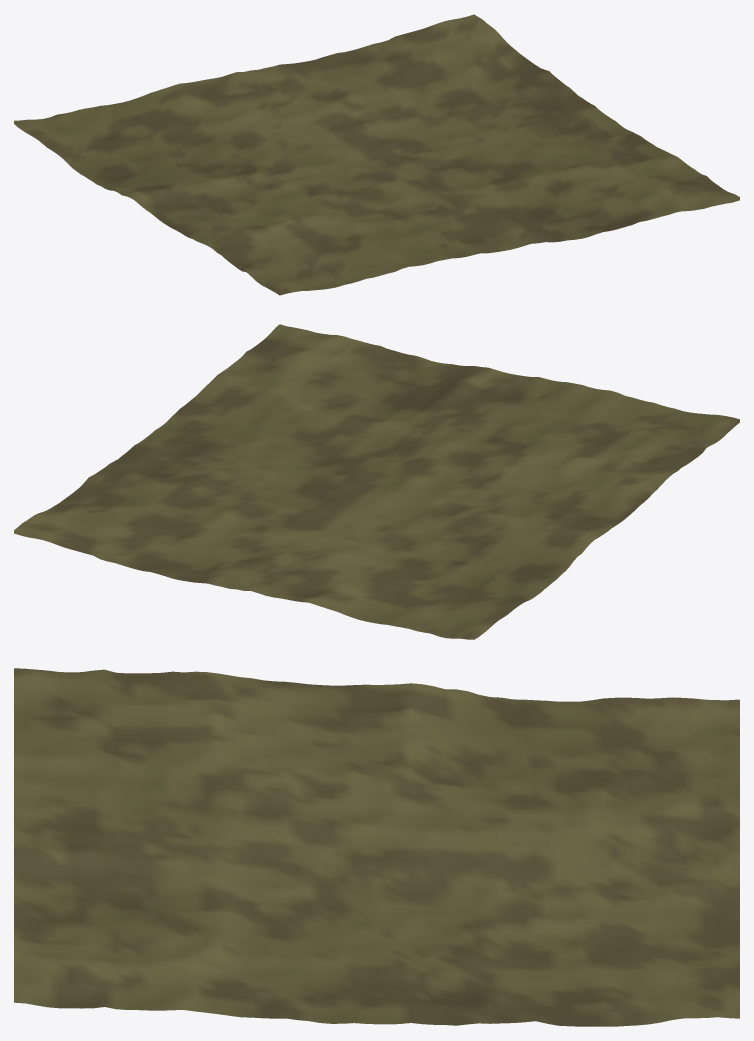
The model's file is land_f_04_07.glb.
3 views of the same model, one above another, from view 1: azimuth 30°, elevation 25°; view 2: azimuth 150°, elevation 25°; view 3: azimuth 270°, elevation 25° (orthographic). The views are drawn at different scales.
Parts seen in each view (by area): view 1: land_f_04_07; view 2: land_f_04_07; view 3: land_f_04_07.
Boxes of the visible parts, <box> form: land_f_04_07: <box>14,14,739,295</box>; land_f_04_07: <box>14,324,739,639</box>; land_f_04_07: <box>14,668,739,1026</box>.
Size of the model in its own units: 3840 by 314 by 3840.
